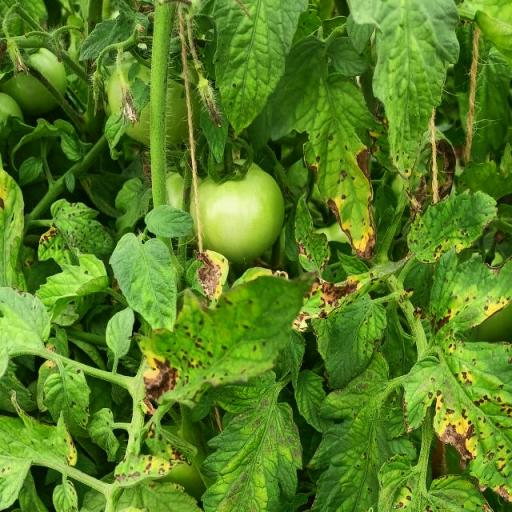Early Blight: (130, 266, 320, 412), (266, 25, 378, 267), (400, 340, 512, 508), (404, 183, 500, 271), (424, 248, 512, 338), (322, 291, 390, 391), (194, 248, 232, 306)
